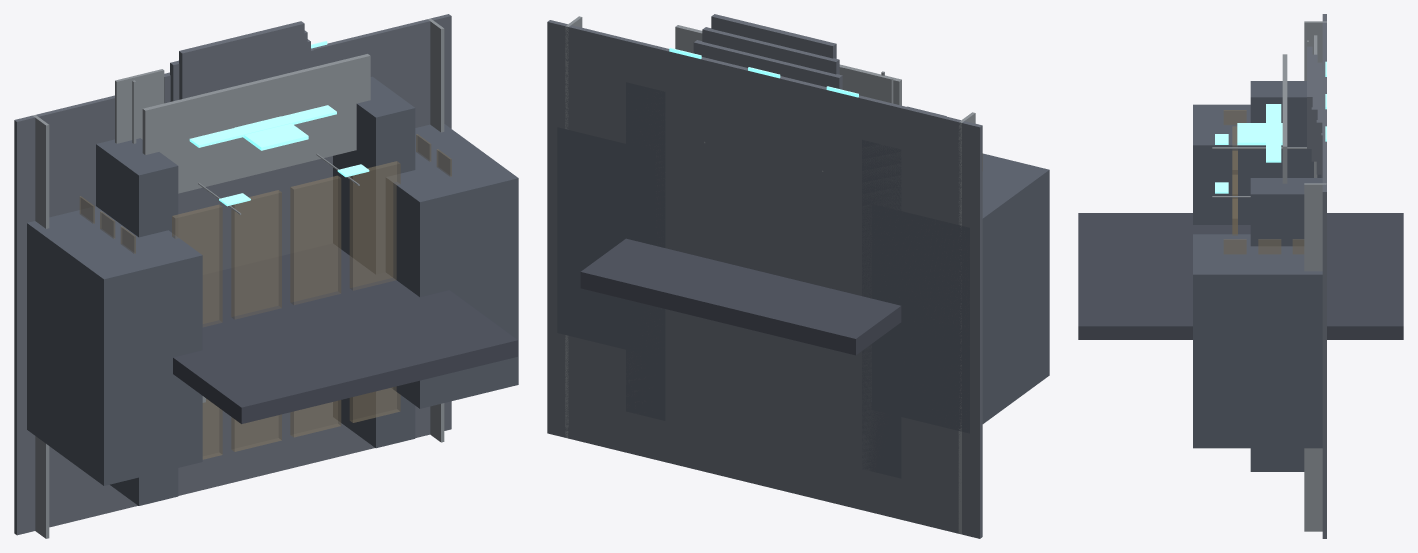
File: civic.glb
3 views of the same model, side by side, from view 1: azimuth 30°, elevation 25°; view 2: azimuth 150°, elevation 25°; view 3: azimuth 270°, elevation 25° (orthographic). The views are drawn at different scales.
Parts seen in each view (by area): view 1: Hall_Wall_L, Step_0, Hall_Roof, Hall_Glass_Front, Hall_Glass_Frame, Emblem; view 2: Step_0, Hall_Wall_L, Hall_Roof, Hall_Glass_Frame; view 3: Hall_Wall_L, Hall_Roof, Hall_Glass_Frame, Step_0, Emblem, Hall_Glass_Front.
Boxes of the visible parts, x1,y1,x2,y2 form: Hall_Wall_L: (27,76,518,505); Step_0: (14,14,451,535); Hall_Roof: (173,243,517,423); Hall_Glass_Front: (79,134,451,459); Hall_Glass_Frame: (32,18,444,538); Emblem: (189,41,369,206); Step_0: (547,14,982,538); Hall_Wall_L: (557,82,1049,478); Hall_Roof: (580,238,901,355); Hall_Glass_Frame: (565,16,975,534); Hall_Wall_L: (1193,81,1322,471); Hall_Roof: (1078,213,1403,339); Hall_Glass_Frame: (1212,21,1326,531); Step_0: (1307,14,1326,538); Emblem: (1215,61,1326,193); Hall_Glass_Front: (1223,110,1304,254).
Bounding box in the file's own units: 22 × 21.8 × 17.
